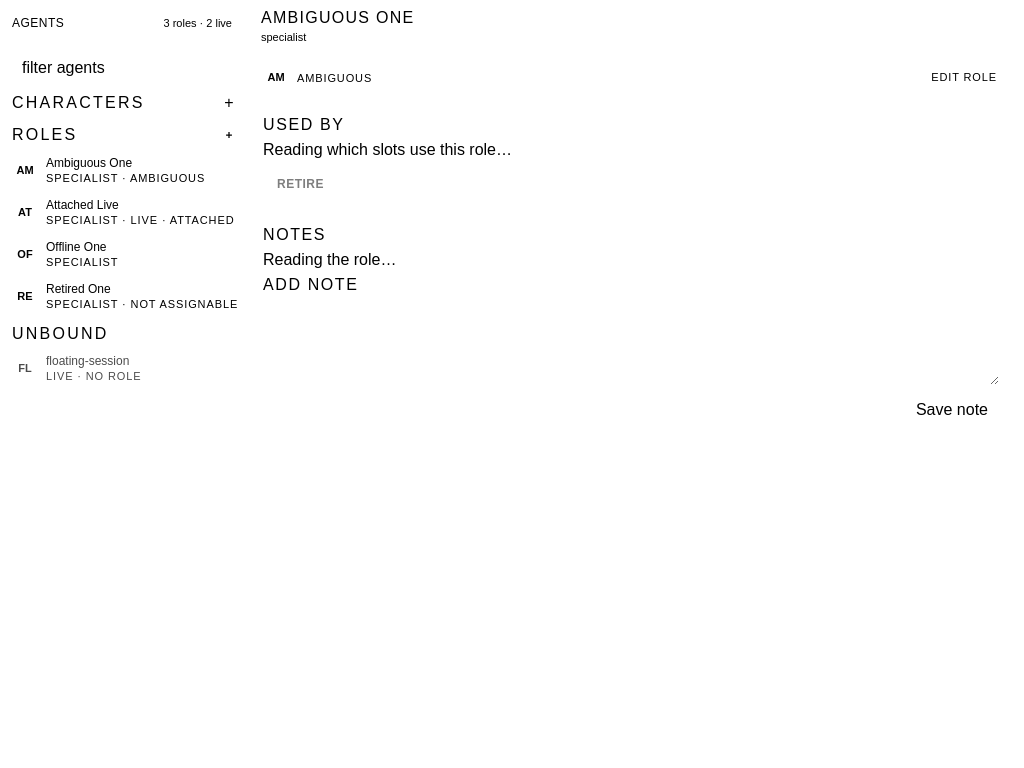
Test: AgentsView › lists roles by name, not by harness, and states only what differs from offline
Check: the text "Attached Live" is shown, box [46,198,119,212]
Check: the text "AT" is shown, box [18,206,32,218]
Step 1. Click the button with aria-label "inspect Retired One" → (126, 296), box [0,275,251,317]
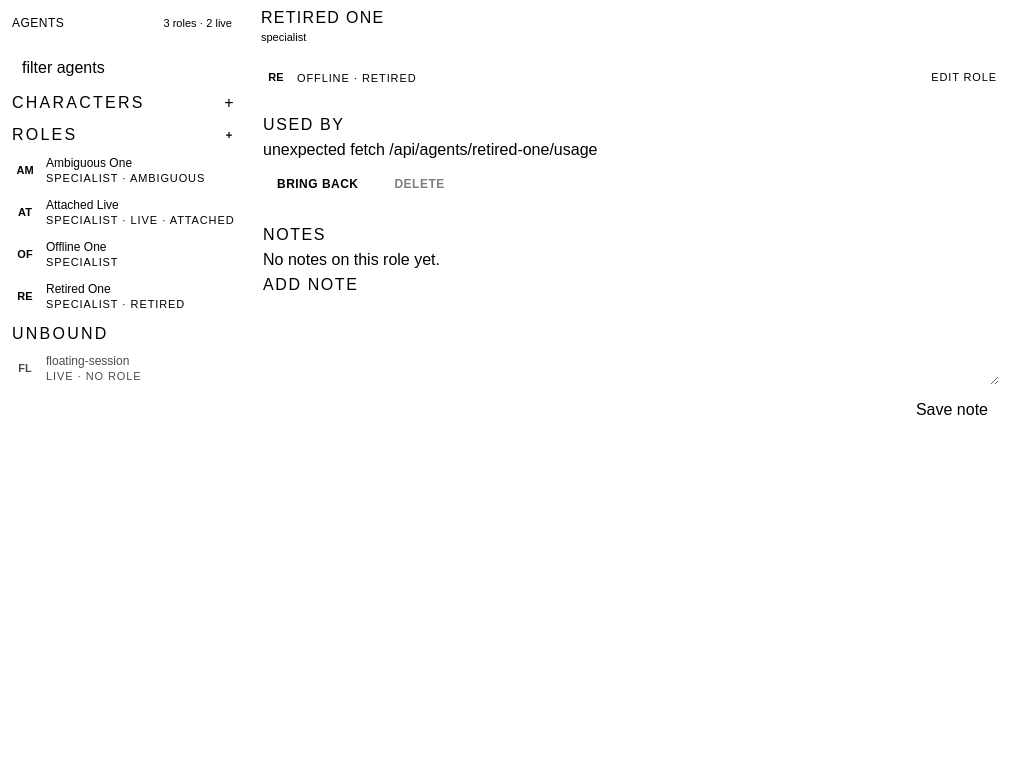
Check: the 1st text "retired" is shown, box [350,72,416,84]
Check: the text "offline" is shown, box [297,72,350,84]
Step 2. Click the button with aria-label "inspect floating-session" → (126, 368), box [0,347,251,389]
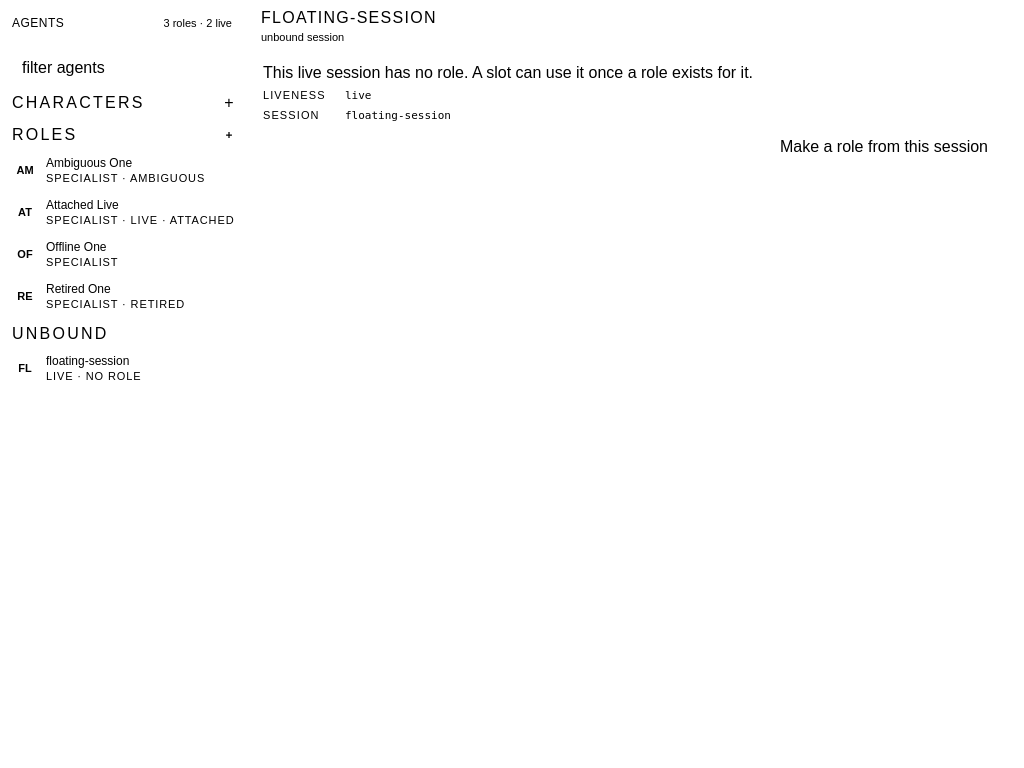
Step 3. Click the button "Make a role from this session" → (884, 147), box [769,131,999,163]
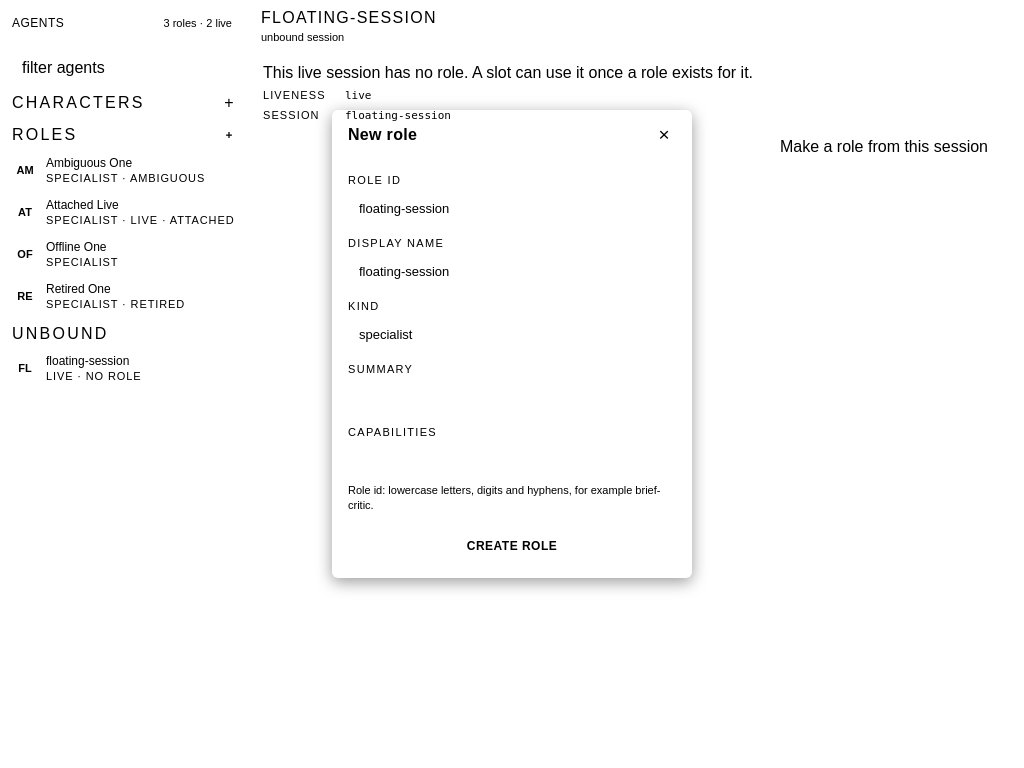
Check: the field labelled "Role id" holds "floating-session", box [348,192,676,225]
